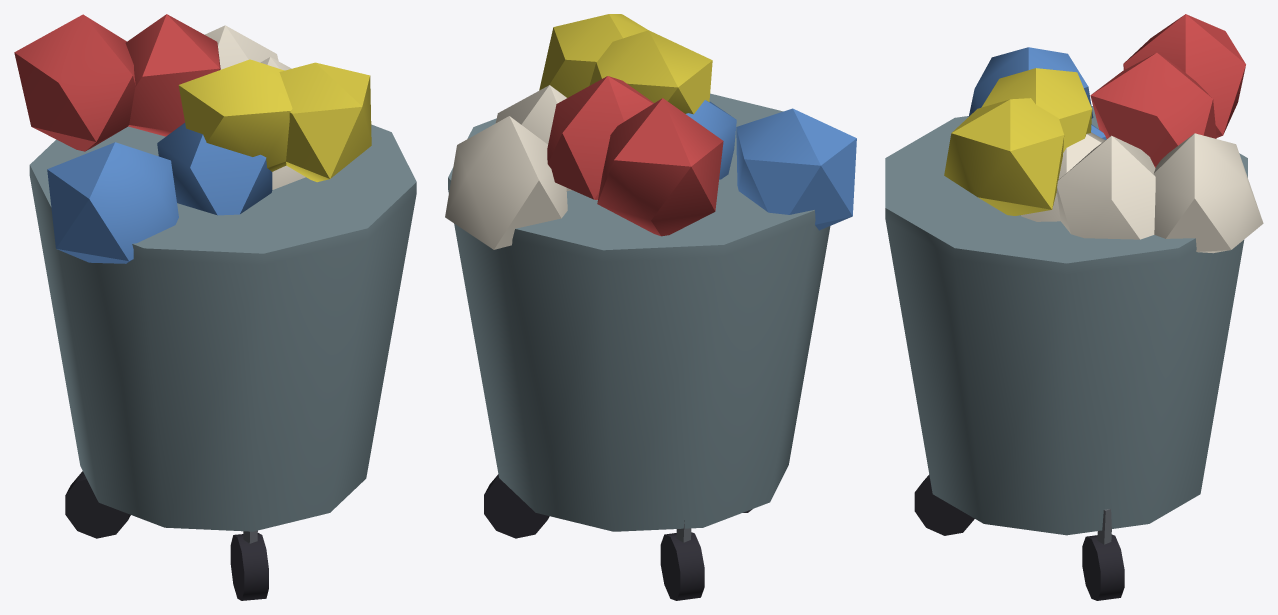
Rendered from laundry_cart.glb.
3 views of the same model, side by side, from view 1: azimuth 30°, elevation 25°; view 2: azimuth 150°, elevation 25°; view 3: azimuth 270°, elevation 25° (orthographic). The views are drawn at different scales.
Parts seen in each view (by area): view 1: laundry_cart; view 2: laundry_cart; view 3: laundry_cart.
Part boxes in pixels (x1,y1,x2,y2): laundry_cart: [14, 14, 416, 600]; laundry_cart: [445, 14, 856, 600]; laundry_cart: [885, 14, 1263, 600].
Size of the model in its own units: 0.97 by 1.32 by 0.9129.
